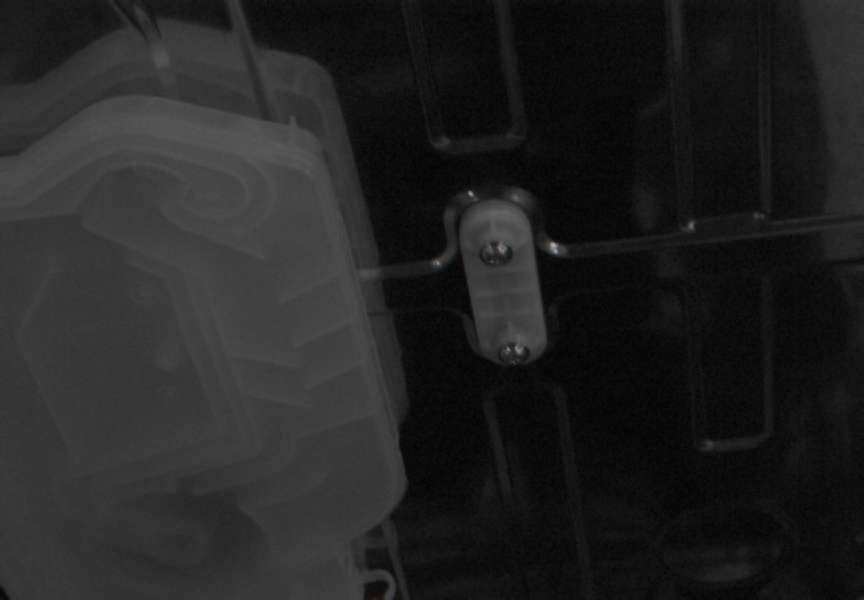screw: (479, 241, 513, 266), (498, 342, 530, 366)
